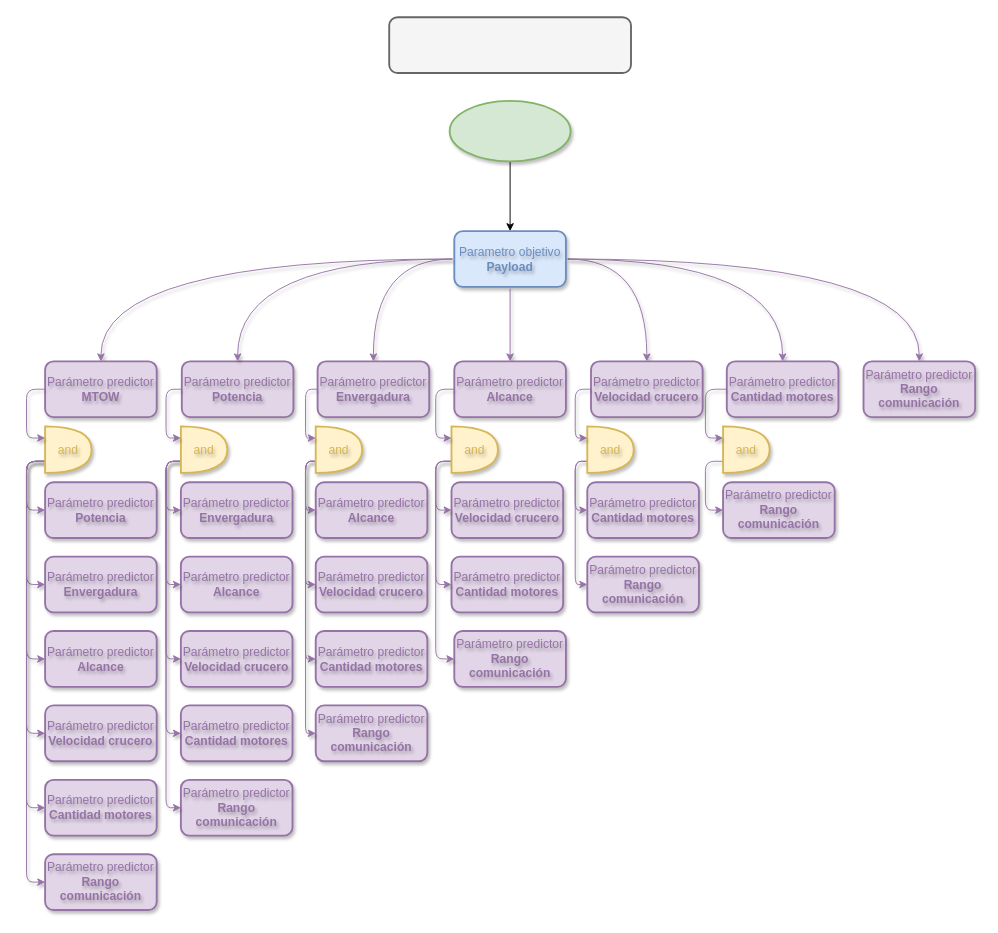
This 998x933 diagram has some shape labels left out. Here are the shapes that lost their labels. From the top down, the centre of each, then its label:
At point (509, 44): "Para 2 predictores".
At point (511, 132): "INICIO".
